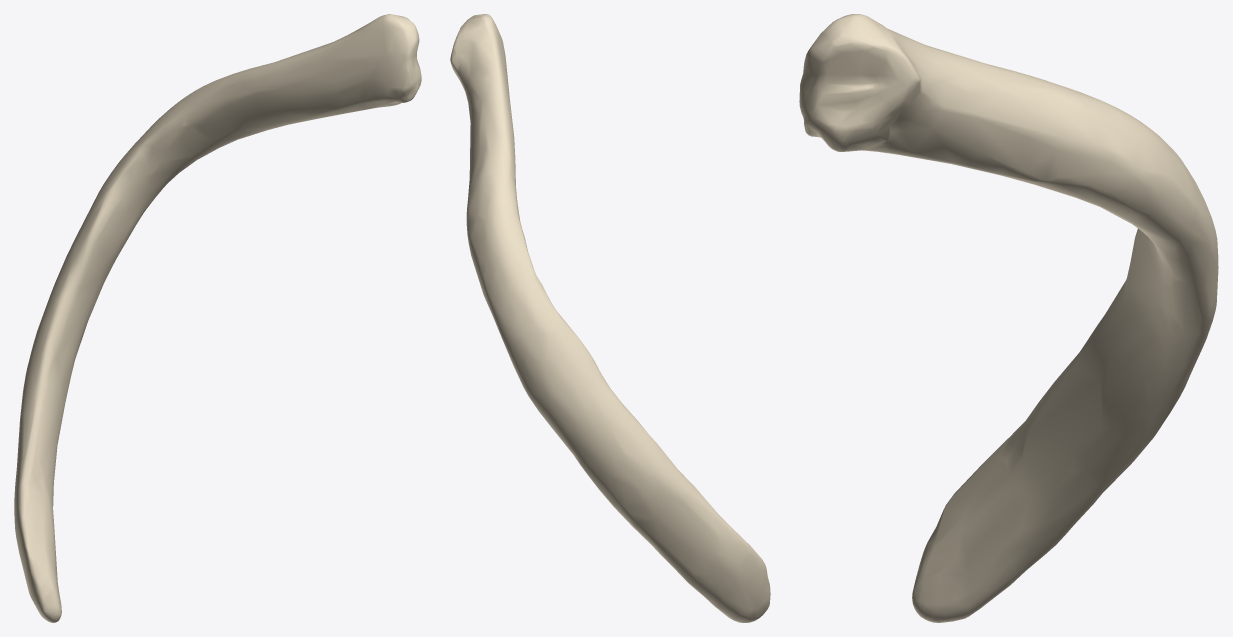
The model's file is twelfth-rib-r.glb.
The picture shows the model from 3 angles, left to right: view 1: azimuth 30°, elevation 25°; view 2: azimuth 150°, elevation 25°; view 3: azimuth 270°, elevation 25°; orthographic projection. The views are drawn at different scales.
Visible parts, largest first — view 1: Twelfth rib.r; view 2: Twelfth rib.r; view 3: Twelfth rib.r.
Boxes of the visible parts, <box> form: Twelfth rib.r: <box>14,14,421,622</box>; Twelfth rib.r: <box>450,14,770,622</box>; Twelfth rib.r: <box>799,14,1218,622</box>.
Bounding box in the file's own units: 0.066 × 0.0979 × 0.0444.
